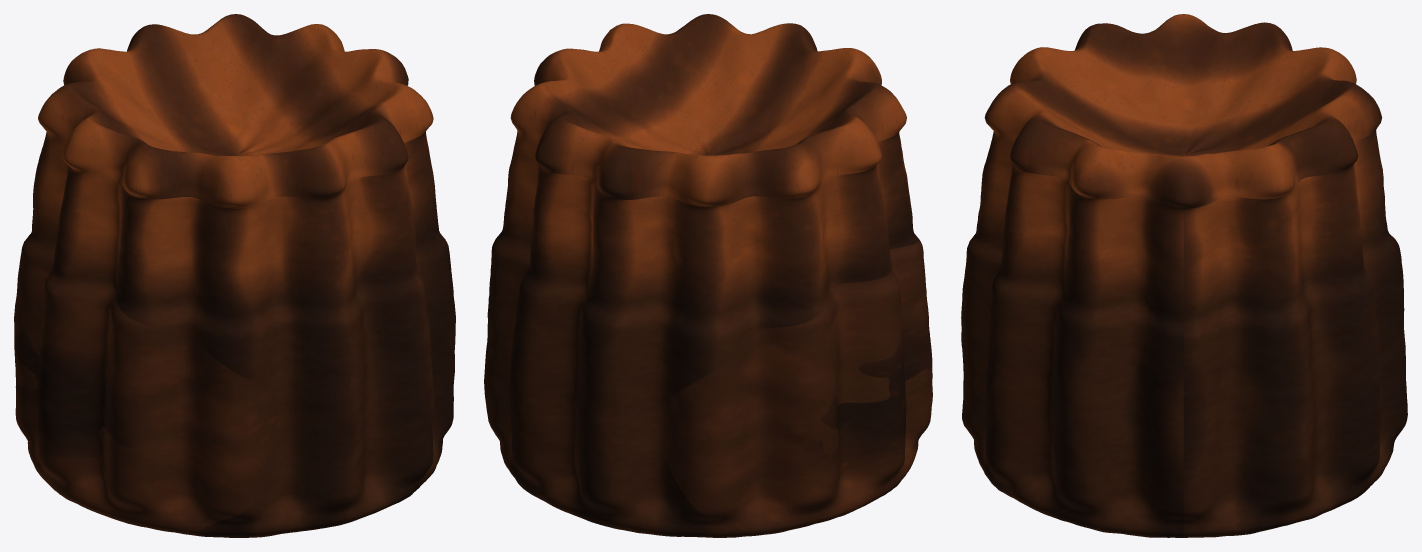
The model's file is canele_webp.glb.
The picture shows the model from 3 angles, left to right: view 1: azimuth 30°, elevation 25°; view 2: azimuth 150°, elevation 25°; view 3: azimuth 270°, elevation 25°; orthographic projection.
Visible parts, largest first — view 1: Canele_de_Bordeaux; view 2: Canele_de_Bordeaux; view 3: Canele_de_Bordeaux.
Part boxes in pixels (x1,y1,x2,y2): Canele_de_Bordeaux: (14, 14, 455, 537); Canele_de_Bordeaux: (484, 14, 932, 537); Canele_de_Bordeaux: (961, 14, 1407, 537).
Size of the model in its own units: 0.0508 by 0.0471 by 0.0507.
1 material, 1 textured.
